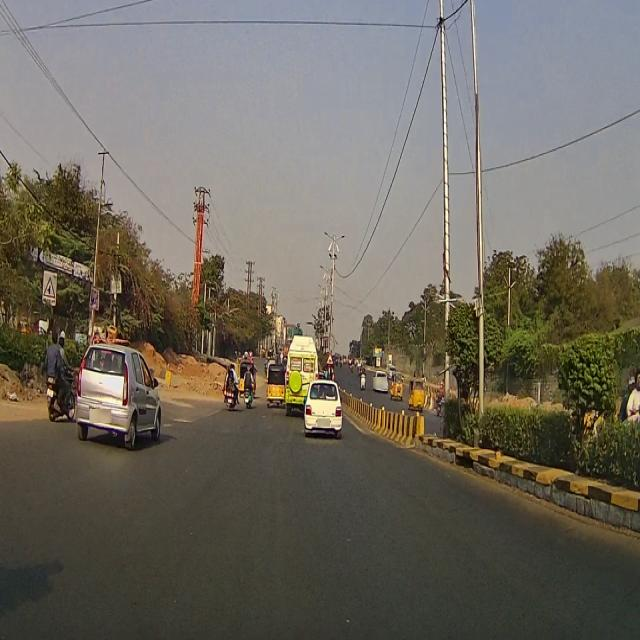side-road-left: (42, 268, 58, 301)
